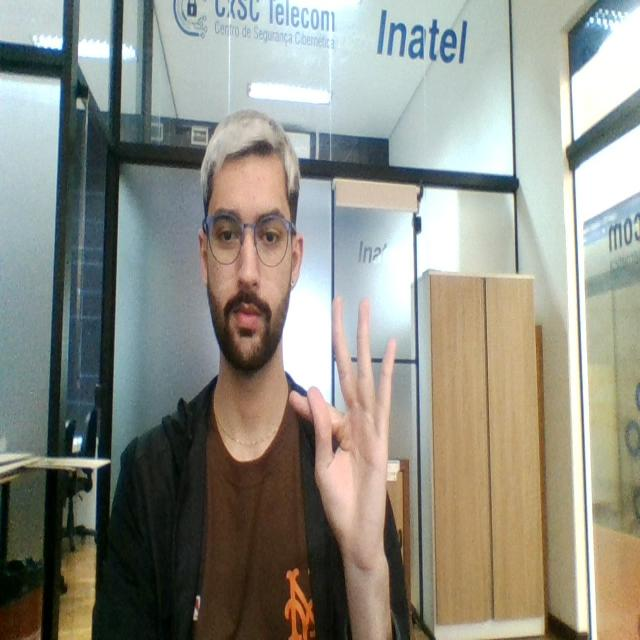T: (289, 290, 400, 562)
